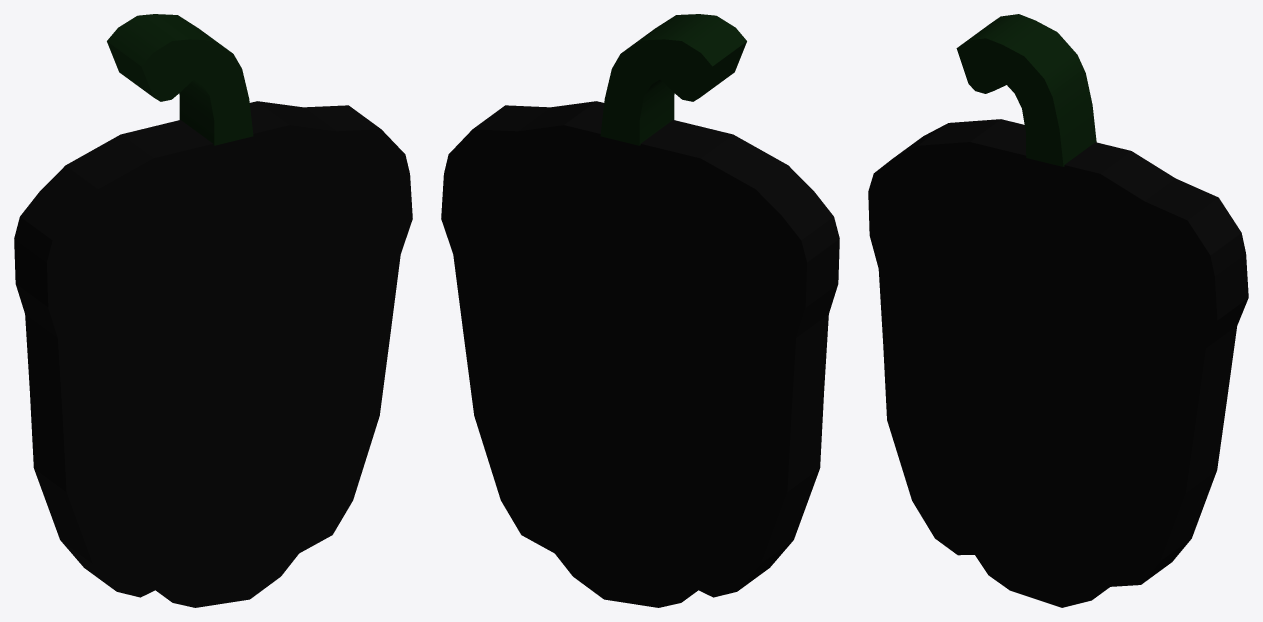
The model's file is mesh_Capsicum_v1_0.fbx.
The picture shows the model from 3 angles, left to right: view 1: azimuth 30°, elevation 25°; view 2: azimuth 150°, elevation 25°; view 3: azimuth 330°, elevation 25°; orthographic projection. The views are drawn at different scales.
Visible parts, largest first — view 1: mesh_Capsicum_v1_0; view 2: mesh_Capsicum_v1_0; view 3: mesh_Capsicum_v1_0.
Boxes of the visible parts, x1,y1,x2,y2 form: mesh_Capsicum_v1_0: (14, 14, 412, 607); mesh_Capsicum_v1_0: (441, 14, 839, 607); mesh_Capsicum_v1_0: (868, 14, 1248, 607).
Bounding box in the file's own units: 0.3641 × 0.55 × 0.0598.
